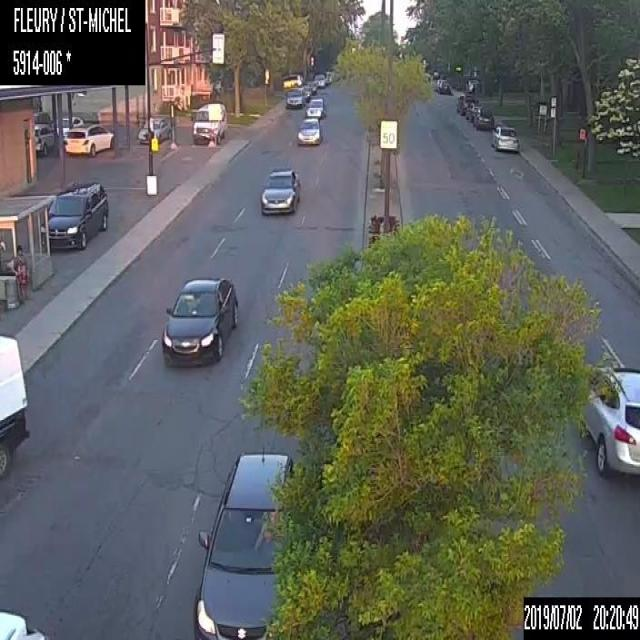pedestrian: (9, 242, 30, 305)
vehicle: (193, 452, 291, 639), (160, 274, 239, 366), (585, 367, 639, 477), (37, 176, 109, 253), (0, 332, 29, 481), (258, 167, 300, 214), (62, 120, 115, 156), (190, 100, 228, 146), (0, 609, 47, 638), (135, 112, 173, 143), (30, 122, 57, 156), (490, 122, 519, 152), (296, 114, 322, 146), (52, 116, 83, 139), (455, 90, 479, 118), (471, 106, 496, 129), (305, 94, 324, 118), (284, 88, 304, 109), (432, 73, 451, 95), (281, 72, 303, 88), (33, 110, 50, 122), (299, 83, 310, 101), (313, 72, 325, 87), (306, 80, 315, 93)
